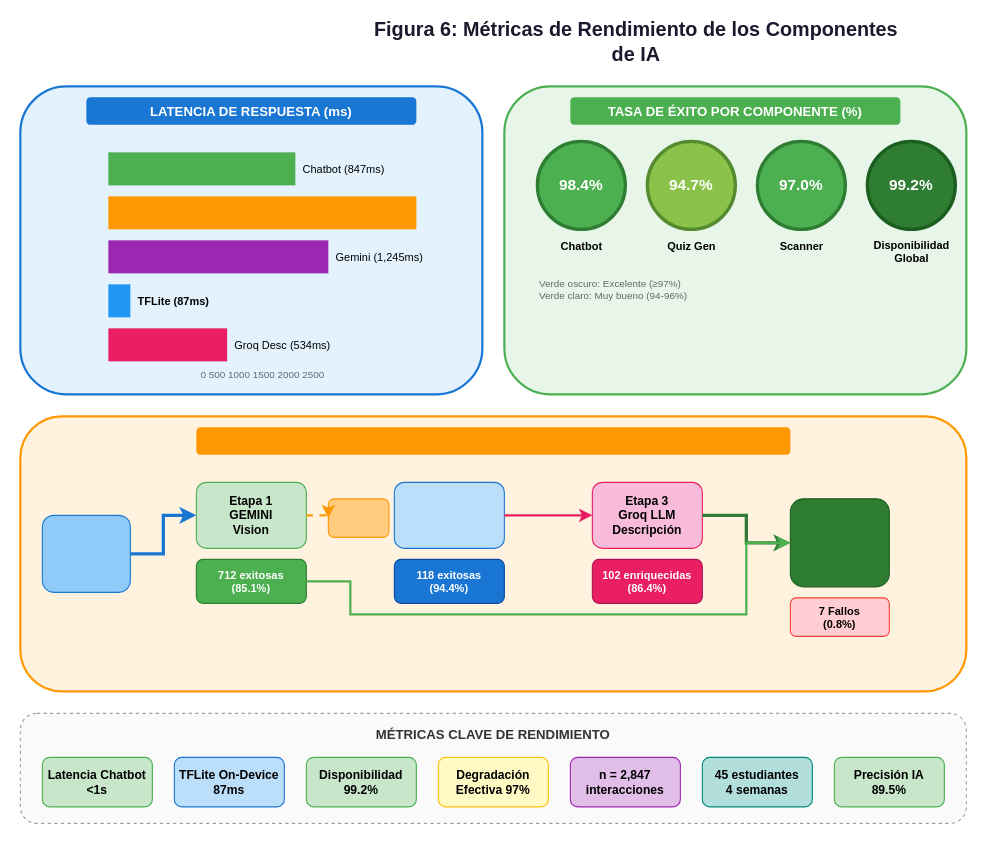
The diagram is 986 pixels wide and 843 high, and some of its shapes have lost their labels. The centre of each missing label's shape, as x and y in pixels:
125 fallback (14.9%): [358,517]
830 Respuestas Exitosas (99.2%): [839,542]
837 Imágenes (100%): [85,553]
Etapa 2 TFLite MobileNet: [448,514]
FLUJO DE DEGRADACIÓN ELEGANTE - PIPELINE DE IMÁGENES (n = 837): [493,440]
Quiz Gen (2,134ms): [262,212]
